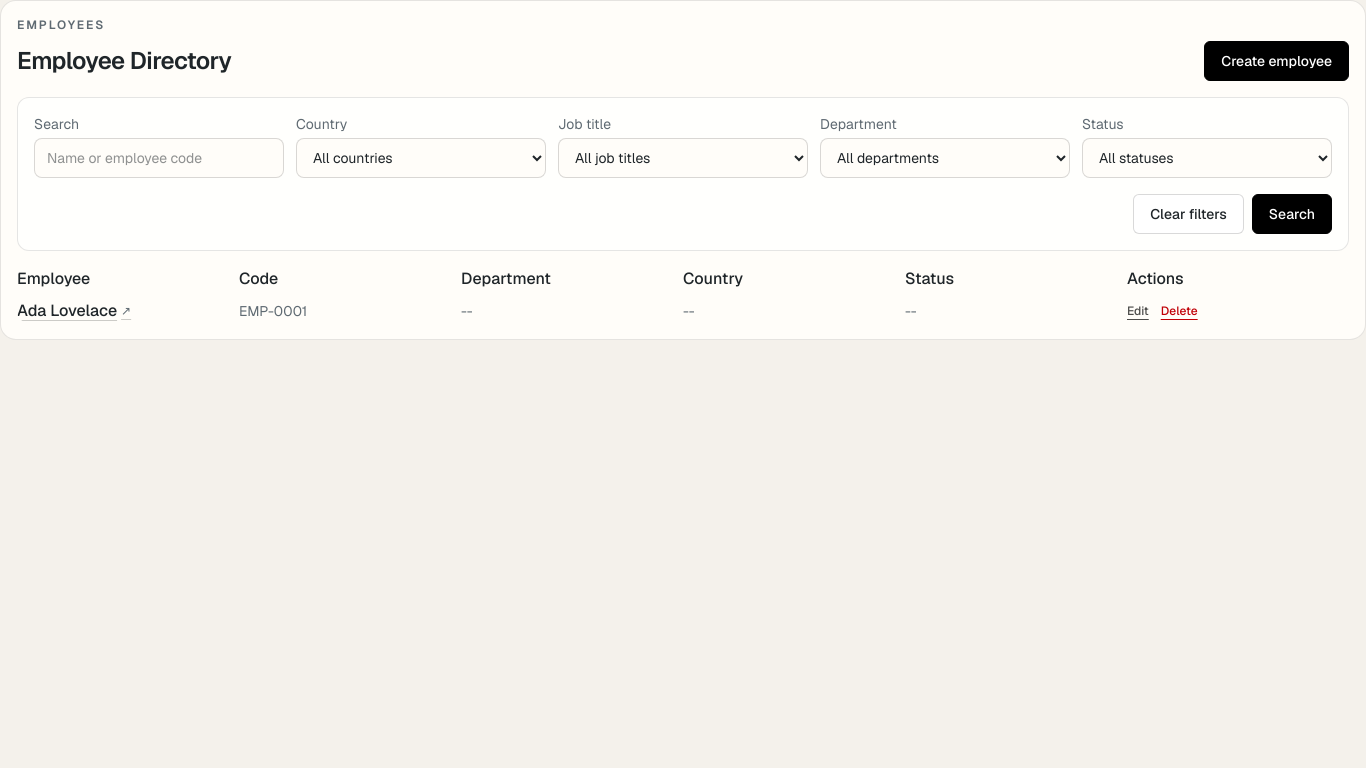
it: Employees page › removes employee row and shows success feedback after confirming delete
This screenshot has width=1366, height=768.
Click the button "Delete": point(1179, 311) left=1161, top=303, right=1198, bottom=319
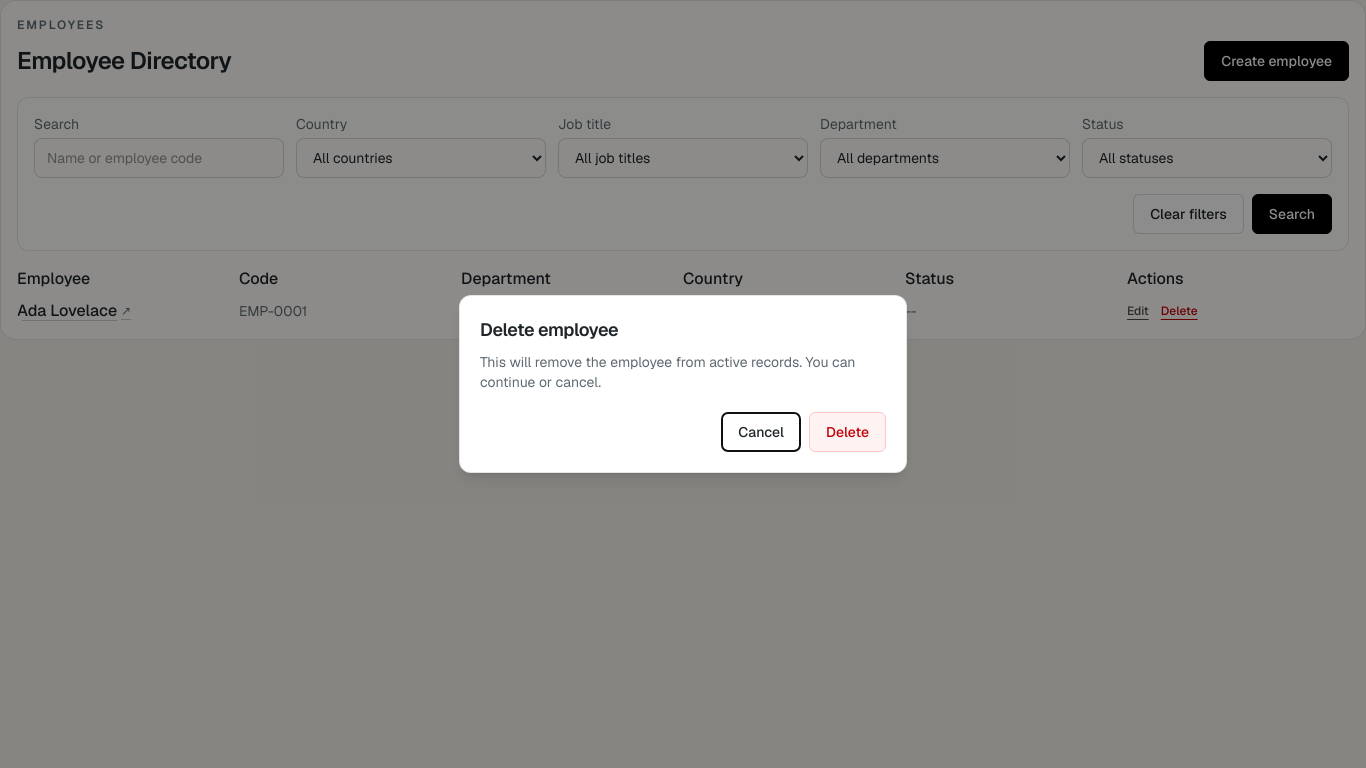
Click the button "Delete": point(847, 432) left=809, top=412, right=886, bottom=452
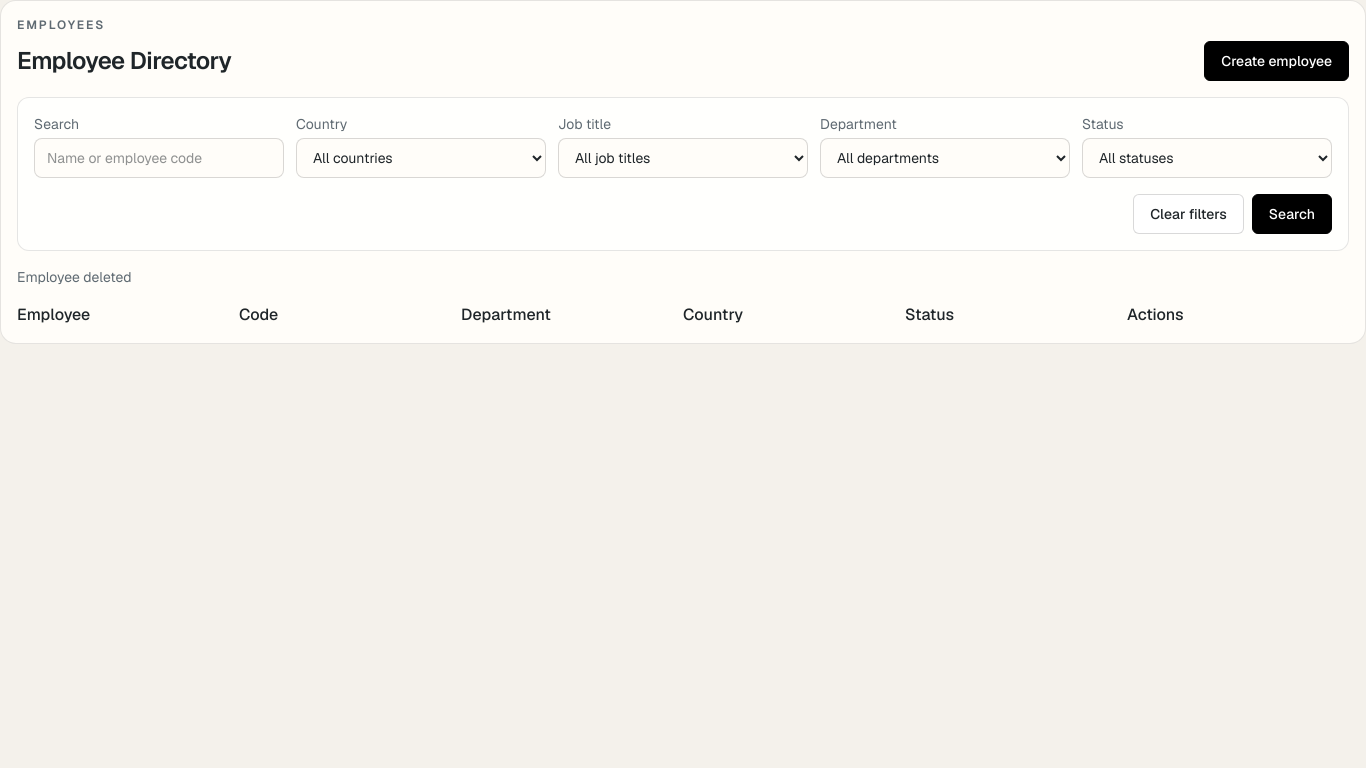
Result: the link "Ada Lovelace" is gone
Result: the text "Employee deleted" is shown at left=17, top=268, right=132, bottom=286
